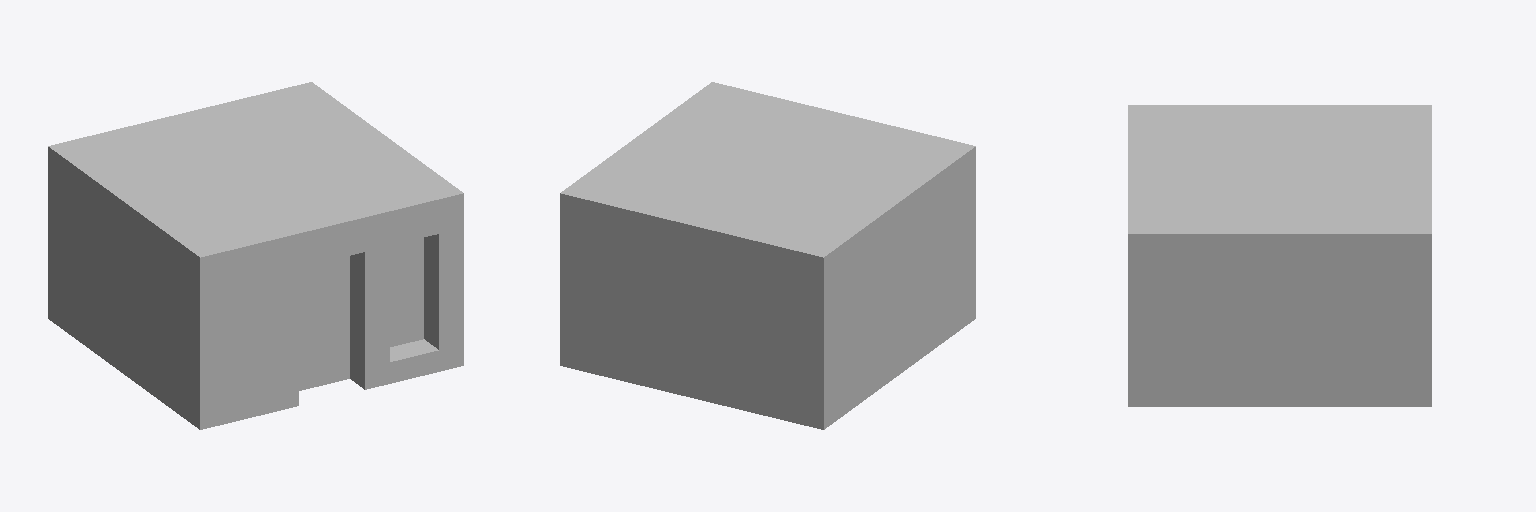
The model's file is building-door-window-narrow.obj.
3 renders of one model, left to right at view 1: azimuth 30°, elevation 25°; view 2: azimuth 150°, elevation 25°; view 3: azimuth 270°, elevation 25°, orthographic.
Visible parts, largest first — view 1: building-door-window-narrow; view 2: building-door-window-narrow; view 3: building-door-window-narrow.
Part boxes in pixels (x1,y1,x2,y2): building-door-window-narrow: (48,82,463,429); building-door-window-narrow: (560,82,975,429); building-door-window-narrow: (1128,105,1431,406).
Bounding box in the file's own units: 1 × 0.625 × 1.